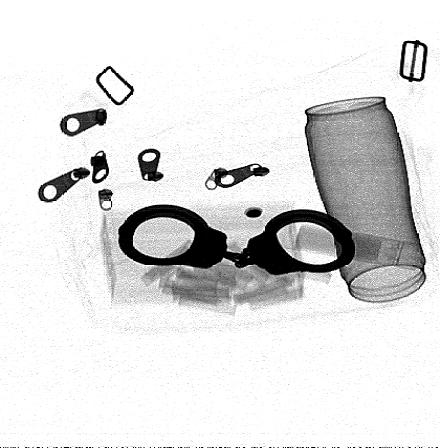HandCuffs: (118, 205, 356, 276)
